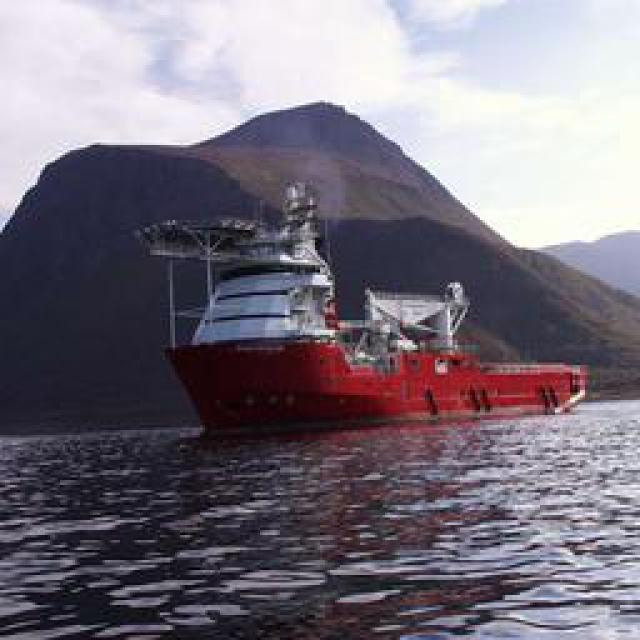Ship: (161, 215, 579, 430)
